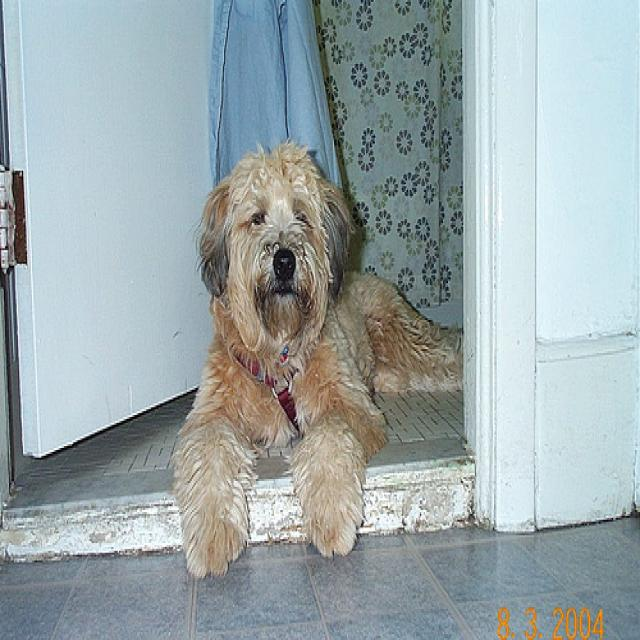dog: (200, 143, 347, 322)
